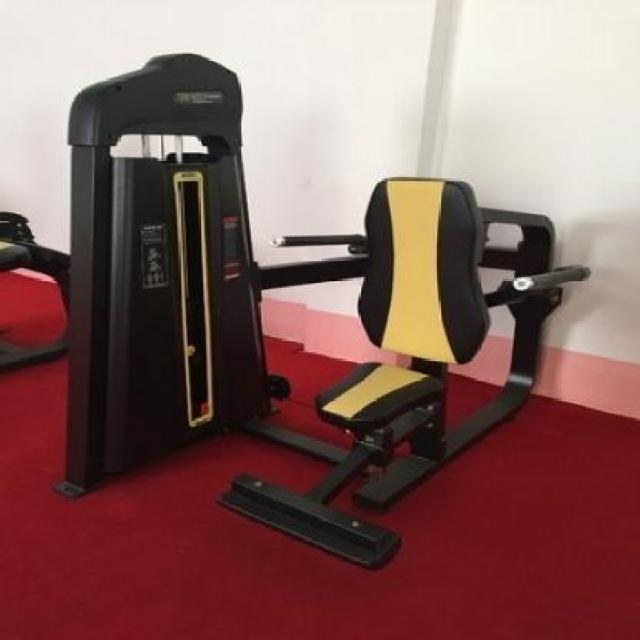seated dip machine: (68, 51, 595, 571)
